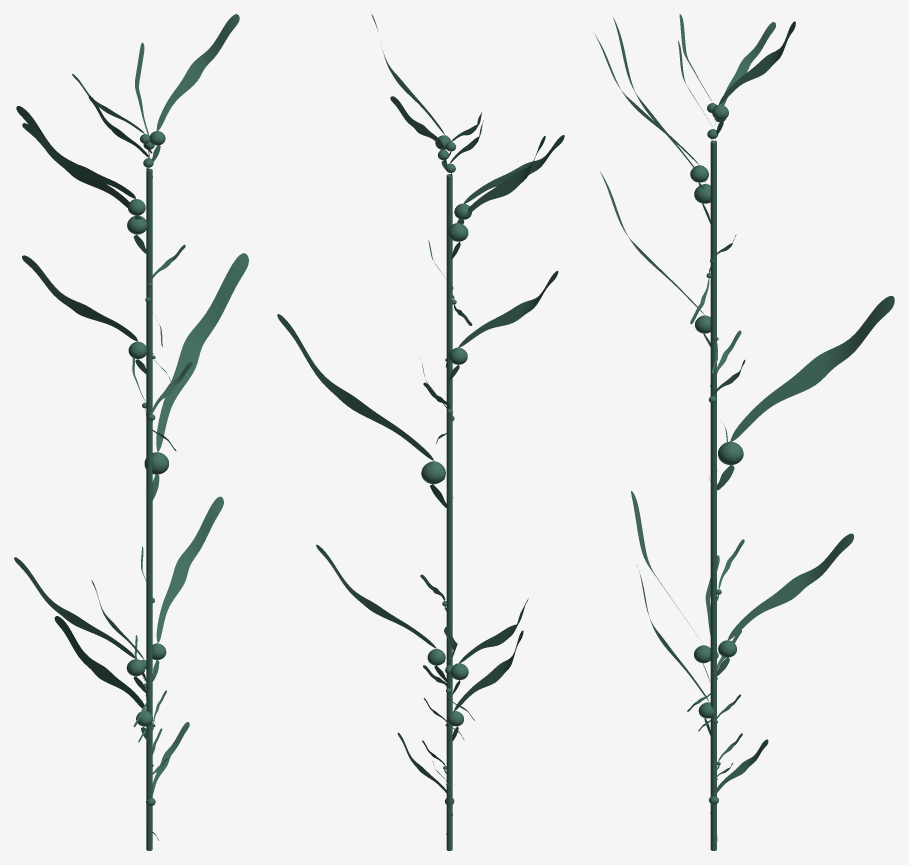
The model's file is kelp.glb.
3 views of the same model, side by side, from view 1: azimuth 30°, elevation 25°; view 2: azimuth 150°, elevation 25°; view 3: azimuth 330°, elevation 25° (orthographic). The views are drawn at different scales.
Parts seen in each view (by area): view 1: kelp; view 2: kelp; view 3: kelp.
Boxes of the visible parts, <box> form: kelp: <box>14,14,248,850</box>; kelp: <box>277,14,564,850</box>; kelp: <box>595,14,894,850</box>.
Size of the model in its own units: 1.43 by 4.34 by 0.545.
